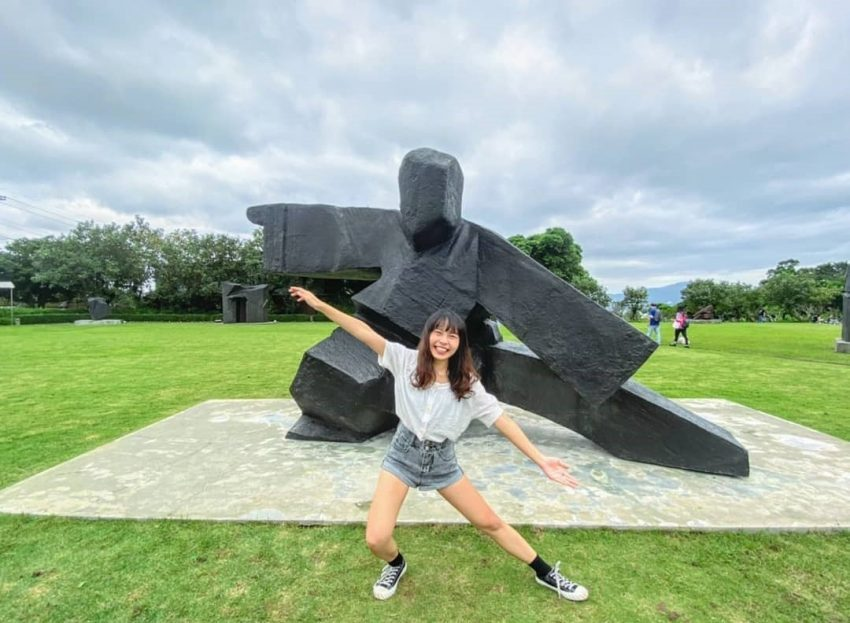people: (363, 308, 589, 610), (667, 304, 689, 346), (644, 298, 662, 346)
